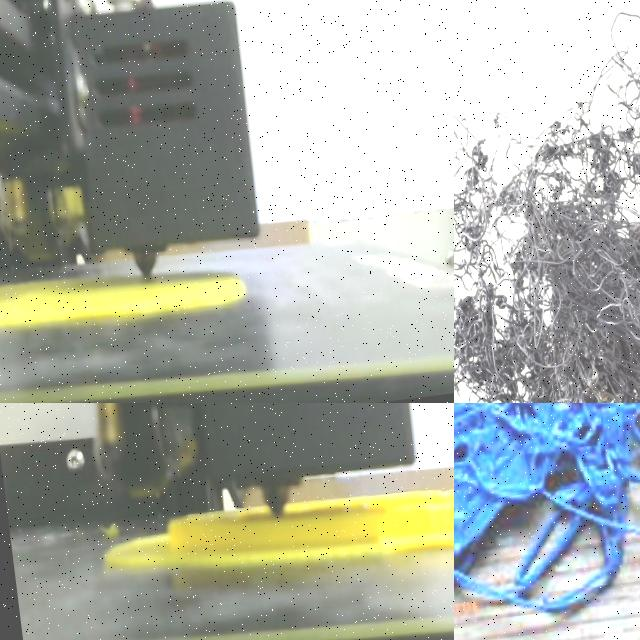spaghetti: (454, 12, 640, 403), (454, 403, 640, 640)
